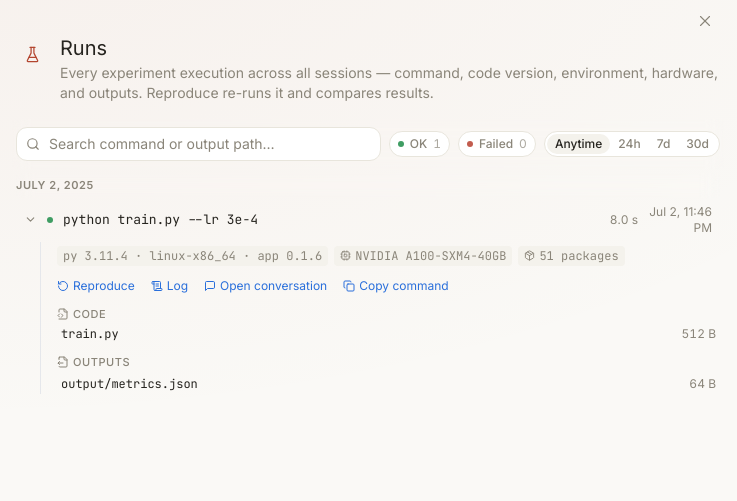
Scenario: RunsPage › loads the captured log on demand
Click the button "Log": (169, 286) [151, 278, 188, 294]
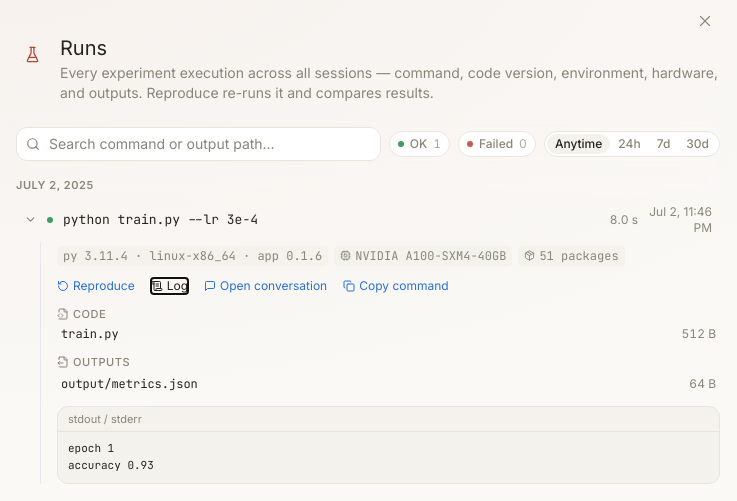
Expected: the text "epoch 1 accuracy 0.93" is shown, [68, 440, 154, 472]
